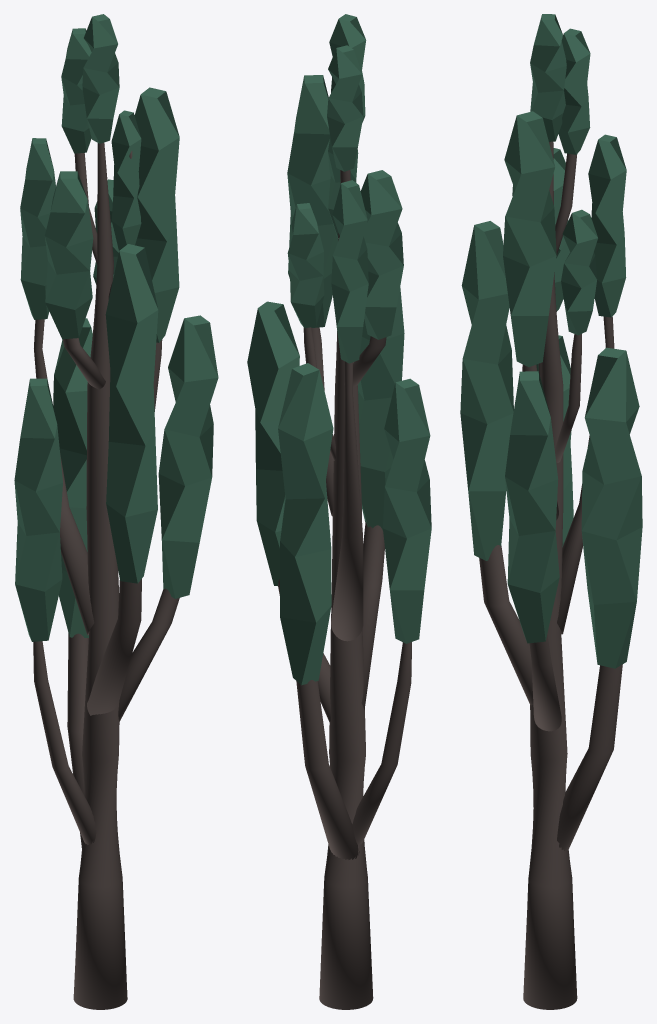
File: TreeUnParented.fbx
3 views of the same model, side by side, from view 1: azimuth 30°, elevation 25°; view 2: azimuth 150°, elevation 25°; view 3: azimuth 270°, elevation 25° (orthographic).
Visible parts, largest first — view 1: Trunk.001, Leaves, Leaves.004, Leaves.008, Leaves.003, Leaves.006, Leaves.007, Leaves.002, Leaves.001, Branch.002, Leaves.011, Branch.006 (+7 smaller); view 2: Trunk.001, Leaves.007, Leaves.008, Leaves.004, Leaves.003, Leaves, Leaves.006, Leaves.002, Branch.005, Branch.003, Leaves.010, Leaves.005 (+8 smaller); view 3: Trunk.001, Leaves.007, Leaves, Leaves.004, Leaves.003, Leaves.002, Branch.003, Leaves.010, Leaves.001, Branch.002, Leaves.005, Branch.008 (+5 smaller).
Boxes of the visible parts, x1,y1,x2,y2 form: Trunk.001: (73,142,127,1009); Leaves: (105,244,158,583); Leaves.004: (158,315,218,598); Leaves.008: (14,378,62,641); Leaves.003: (134,87,179,342); Leaves.006: (44,171,93,339); Leaves.007: (53,318,92,637); Leaves.002: (20,138,55,319); Leaves.001: (82,14,119,143); Branch.002: (87,579,141,715); Leaves.011: (111,110,141,250); Branch.006: (33,641,96,844); Trunk.001: (319,171,373,1009); Leaves.007: (278,363,333,685); Leaves.008: (383,378,431,643); Leaves.004: (247,301,299,585); Leaves.003: (287,75,338,327); Leaves: (357,287,404,530); Leaves.006: (360,170,403,339); Leaves.002: (331,180,368,363); Branch.005: (331,361,363,641); Branch.003: (296,680,359,859); Leaves.010: (287,203,324,328); Leaves.005: (327,45,363,171); Trunk.001: (523,141,577,1009); Leaves.007: (581,347,642,668); Leaves: (460,221,513,560); Leaves.004: (505,371,559,643); Leaves.003: (503,111,556,366); Leaves.002: (588,134,626,317); Branch.003: (557,664,622,851); Leaves.010: (561,209,597,335); Leaves.001: (530,14,566,141); Branch.002: (479,545,533,705); Leaves.005: (558,28,590,154); Branch.008: (529,635,561,731).
Bounding box in the file's own units: 144 × 732 × 123.
